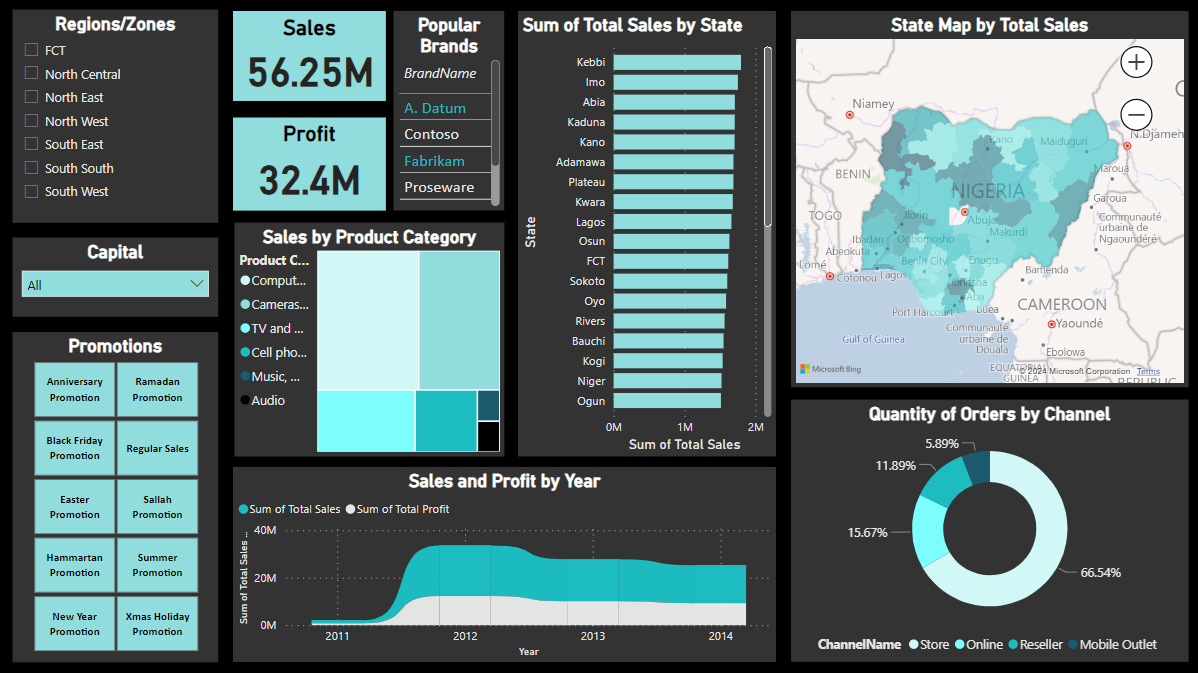

This screenshot's page, from the dashboard's own definition file:
{"tool":"powerbi","page":{"name":"Page 2","canvas":[1280,720],"ordinal":1},"visuals":[{"type":"filledMap","title":"State Map by Total Sales","fields":{"Category":["Sales State.State"]},"box":[842.4,15.9,421.2,398.9],"z":0},{"type":"ribbonChart","title":"Sales and Profit by Year","fields":{"Category":["Sales Data.Order Date.Variation.Date Hierarchy.Year"],"Y":["Sum(Sales Data.Total Sales)","Sum(Sales Data.Total Profit)"]},"box":[251.1,499.1,575.4,206.6],"z":1000},{"type":"slicer","title":"Regions/Zones","fields":{"Values":["Sales State.Zone"]},"box":[17.5,14.3,217.7,225.7],"z":2000},{"type":"donutChart","title":"Quantity of Orders by Channel","fields":{"Category":["Sales Channel.ChannelName"],"Y":["CountNonNull(Sales Data.Order Qty)"]},"box":[842.4,427.5,421.2,278.1],"z":3000},{"type":"treemap","title":"Sales by Product Category","fields":{"Group":["Sales Product Sub Category.Product Category"],"Values":["Sum(Sales Data.Total Sales)"]},"box":[252.7,240,286.1,247.9],"z":4000},{"type":"slicer","title":"Promotions","fields":{"Values":["Sales Promotion.PromotionDescription"]},"box":[17.5,356,217.7,349.7],"z":5000},{"type":"tableEx","title":"Popular Brands","fields":{"Values":["Sales Product.BrandName"]},"box":[421.2,15.9,117.6,211.4],"z":6000},{"type":"slicer","title":"Capital","fields":{"Values":["Sales State.Capital"]},"box":[17.5,255.9,217.7,84.2],"z":7000},{"type":"card","title":"Sales","fields":{"Values":["Sum(Sales Data.Total Sales)"]},"box":[251.1,15.9,162.1,95.4],"z":8000},{"type":"card","title":"Profit","fields":{"Values":["Sum(Sales Data.Total Profit)"]},"box":[251.1,128.7,162.1,98.5],"z":9000},{"type":"clusteredBarChart","fields":{"Category":["Sales State.State"],"Y":["Sum(Sales Data.Total Sales)"]},"box":[553.1,15.9,273.4,472.1],"z":10000}]}

Visuals, with their boxes in screenshot pixels (x1, y1, x2, y2), scaled from the page's 1280x720 canvas onto the 1198x673 screenshot:
"State Map by Total Sales" filledMap: detection(788, 15, 1183, 388)
"Sales and Profit by Year" ribbonChart: detection(235, 467, 774, 660)
"Regions/Zones" slicer: detection(16, 13, 220, 224)
"Quantity of Orders by Channel" donutChart: detection(788, 400, 1183, 660)
"Sales by Product Category" treemap: detection(237, 224, 504, 456)
"Promotions" slicer: detection(16, 333, 220, 660)
"Popular Brands" tableEx: detection(394, 15, 504, 212)
"Capital" slicer: detection(16, 239, 220, 318)
"Sales" card: detection(235, 15, 387, 104)
"Profit" card: detection(235, 120, 387, 212)
clusteredBarChart - Sales State.State x Sum(Sales Data.Total Sales): detection(518, 15, 774, 456)
